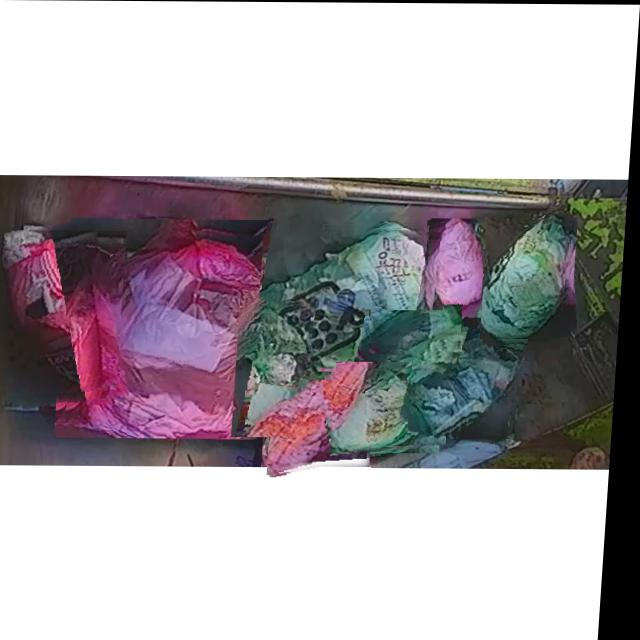general_trashbag: (264, 228, 438, 370), (415, 333, 527, 435), (486, 217, 574, 338), (238, 298, 315, 436), (337, 362, 446, 454), (375, 311, 466, 354)
other_trashbag: (71, 228, 271, 439), (6, 231, 123, 394), (274, 380, 380, 474), (434, 219, 492, 313)
